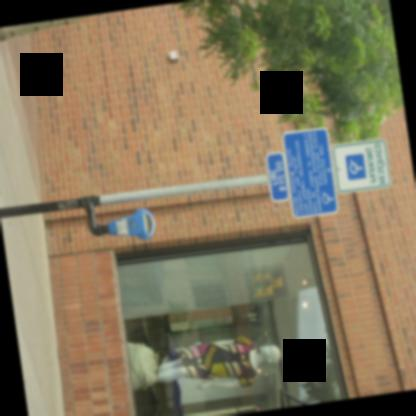handbag: (125, 340, 158, 391)
